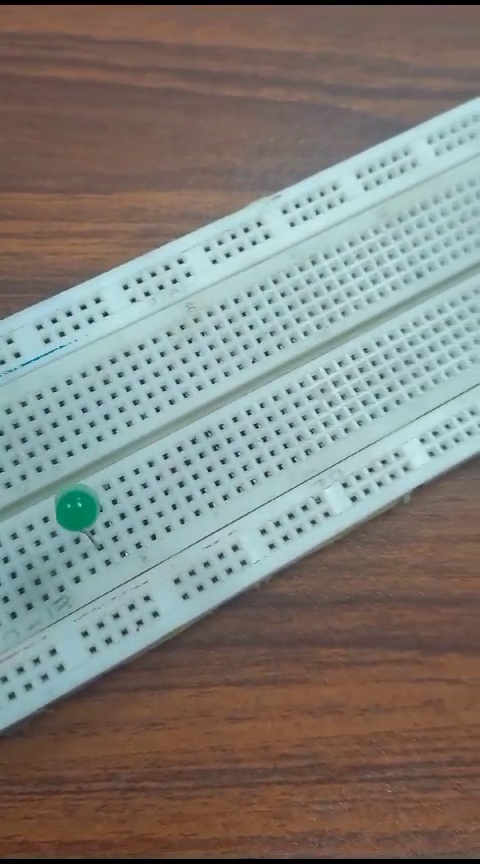LED: (51, 477, 108, 555)
